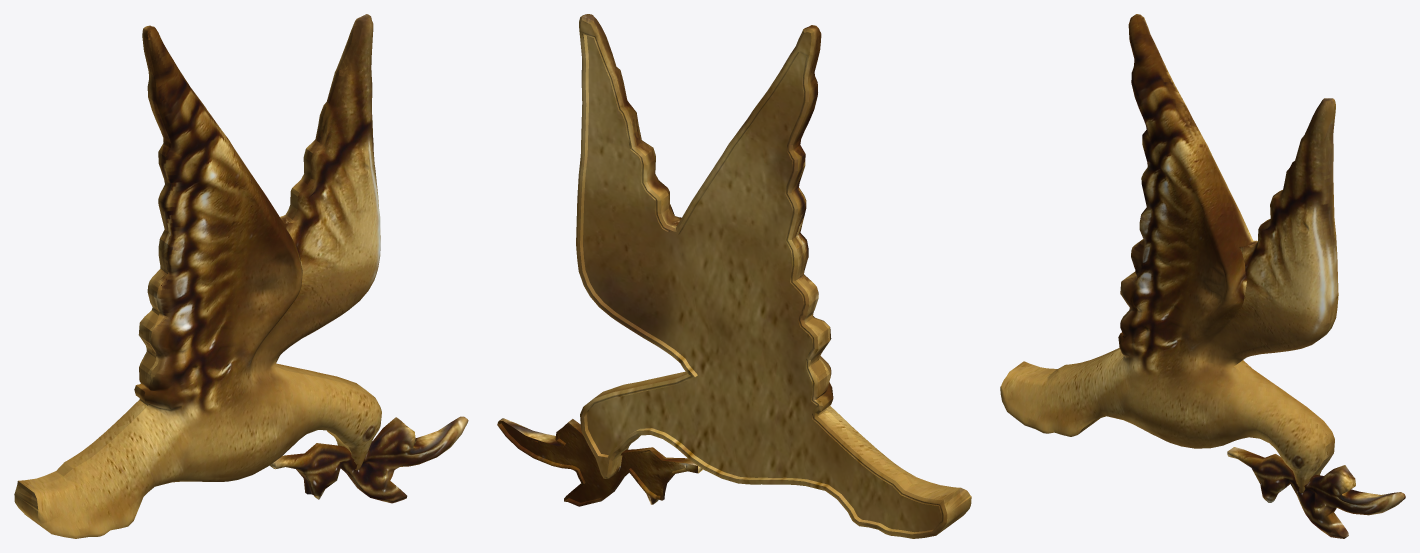
The model's file is Art2225.fbx.
3 views of the same model, side by side, from view 1: azimuth 30°, elevation 25°; view 2: azimuth 150°, elevation 25°; view 3: azimuth 330°, elevation 25° (orthographic). The views are drawn at different scales.
Parts seen in each view (by area): view 1: Mesh_2; view 2: Mesh_2; view 3: Mesh_2.
Part boxes in pixels (bbox=[...]): Mesh_2: bbox=[14, 14, 468, 538]; Mesh_2: bbox=[497, 14, 971, 538]; Mesh_2: bbox=[1000, 14, 1405, 538].
Size of the model in its own units: 8.85 by 10 by 1.1.
Materials: 1 (1 with a texture image).
